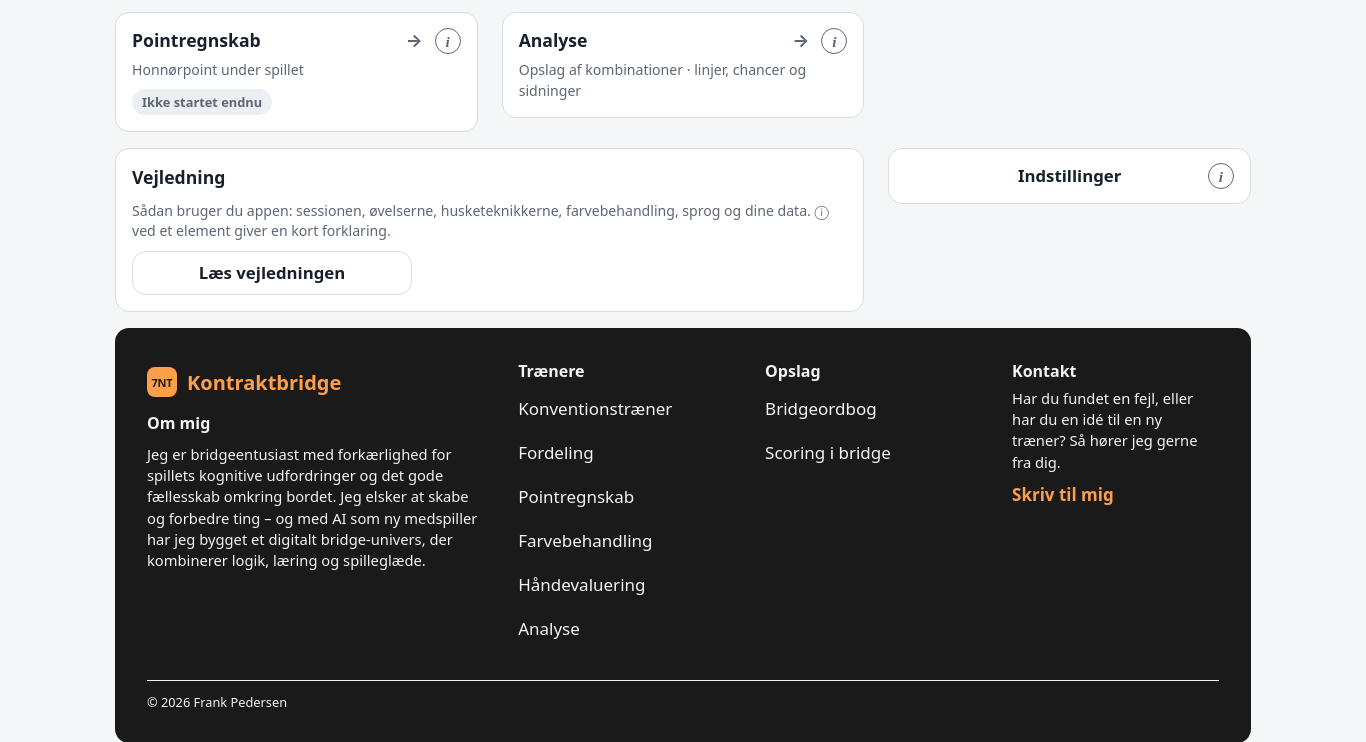
Adresser pr. spor › sidefodens links til sporene åbner sporets skærm i appen
(page scrolled)
Click the link "Håndevaluering": (582, 585) [518,573,646,596]
(page scrolled)
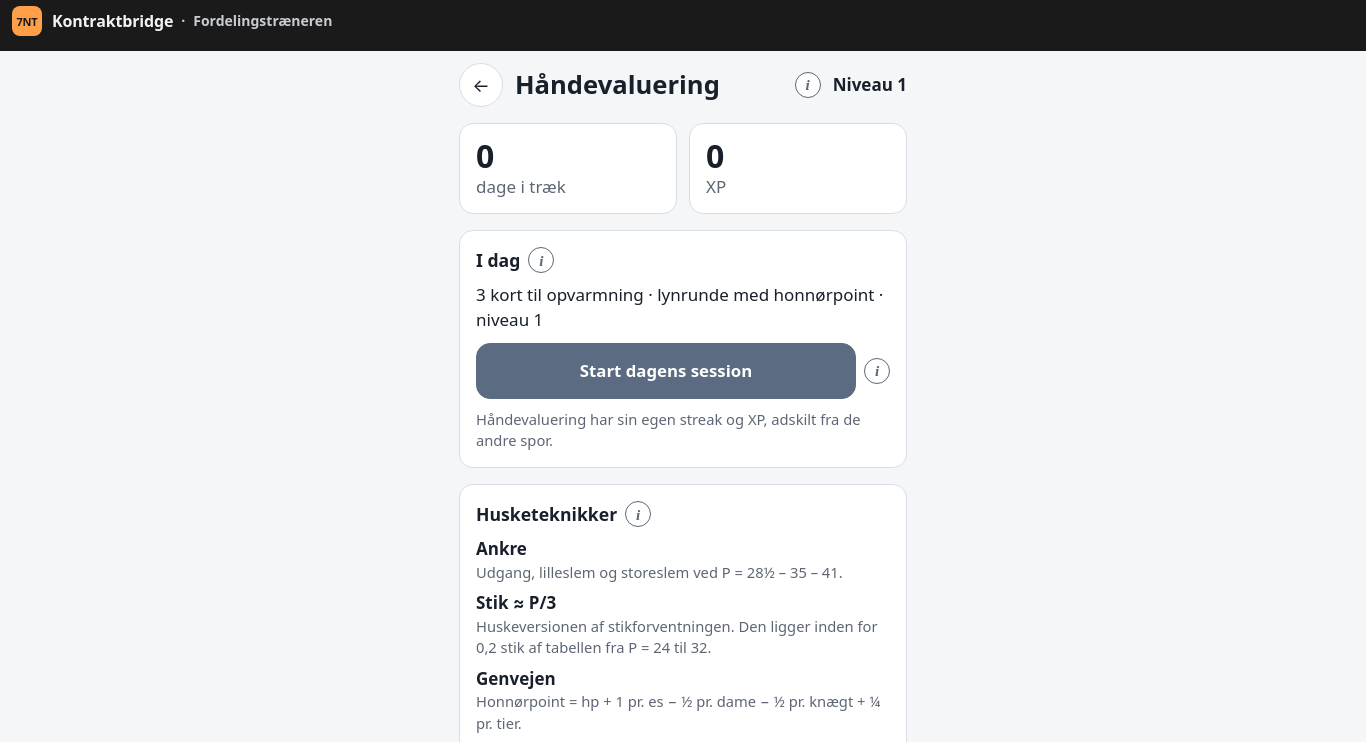
Check: the heading "Håndevaluering" is shown, box [515,67,720,102]
